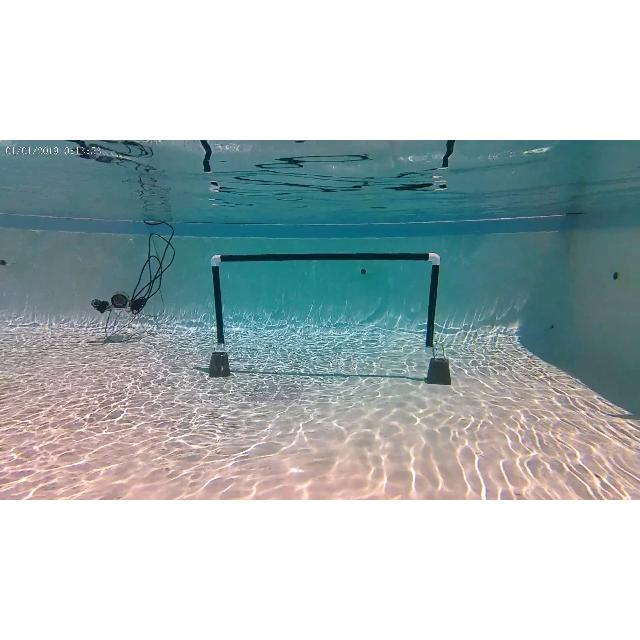prequal gate: (212, 254, 440, 352)
prequal gate leg l: (206, 252, 234, 352)
prequal gate leg r: (418, 251, 442, 351)
